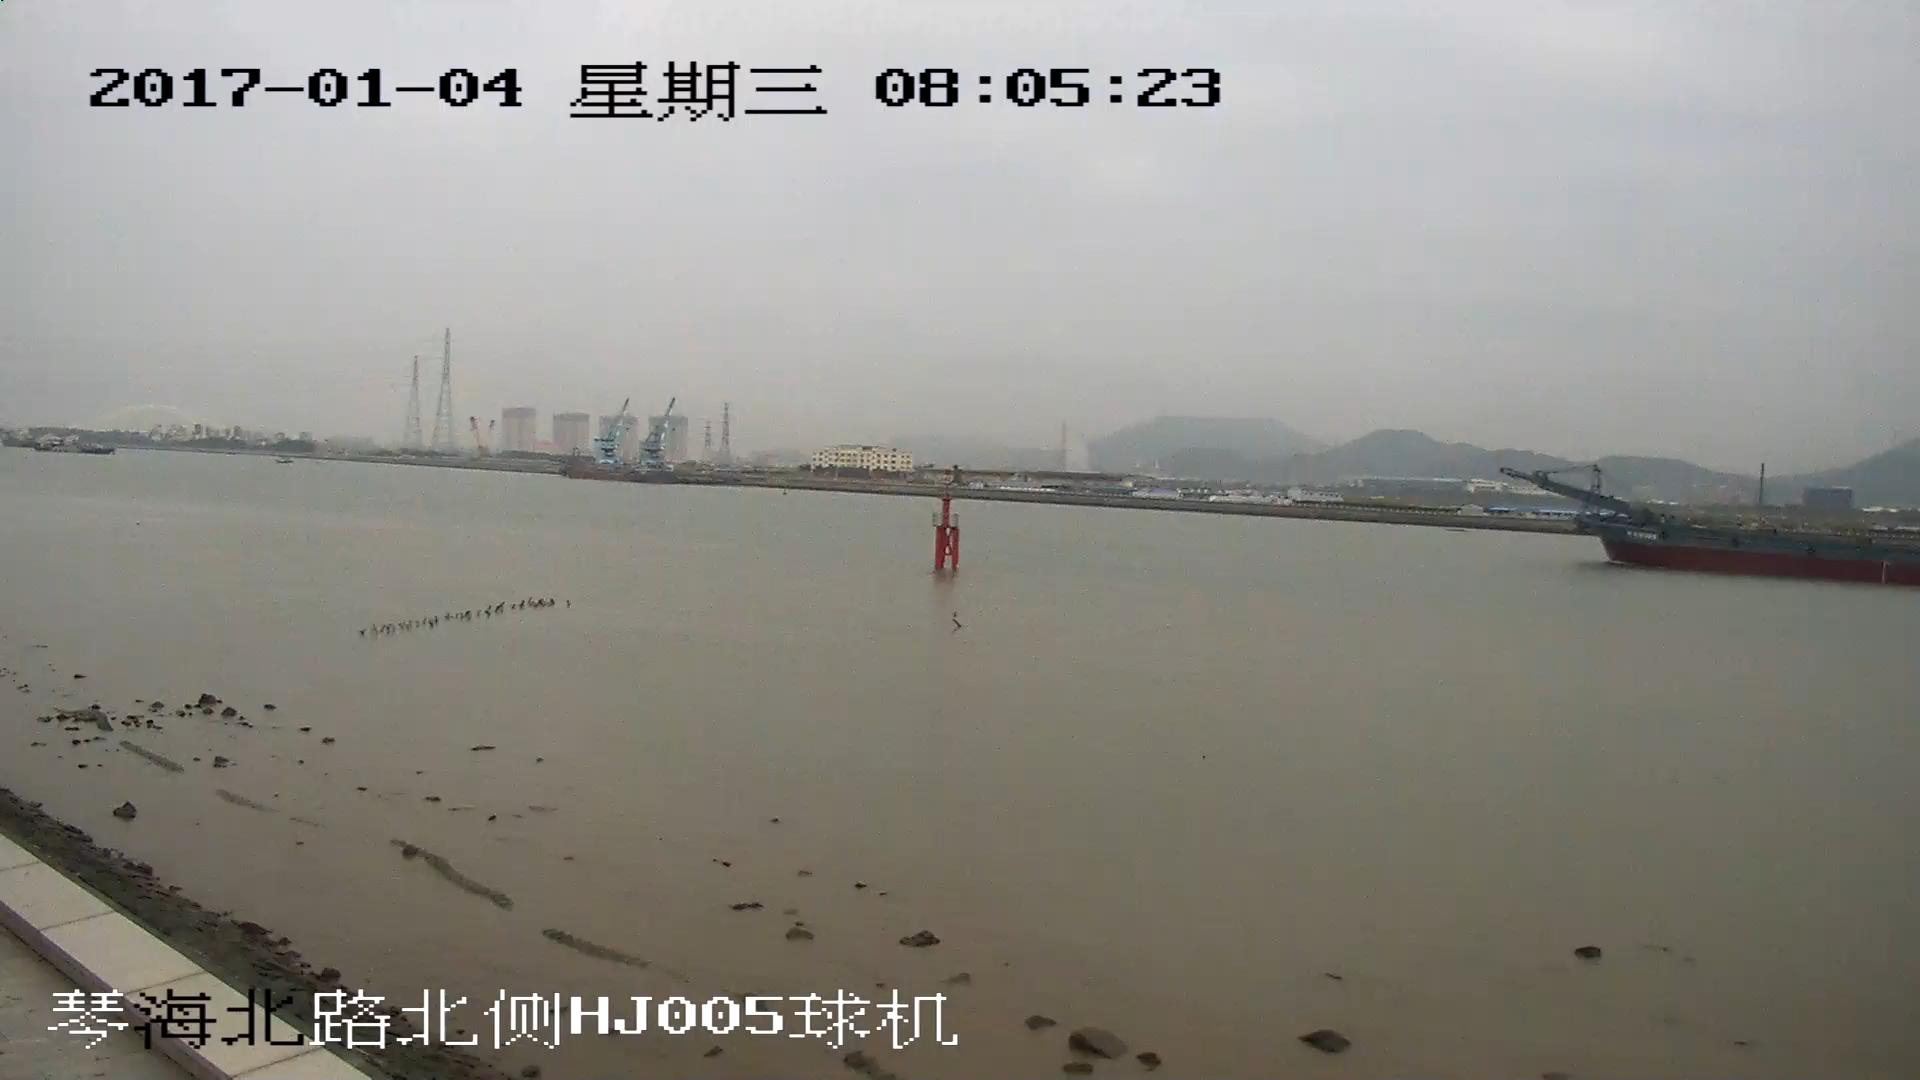bulk cargo carrier: (1504, 468, 1920, 586)
